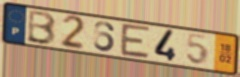2: (60, 14, 87, 51)
4: (152, 27, 180, 63)
5: (185, 32, 211, 67)
6: (93, 21, 116, 53)
B: (25, 9, 57, 47)
E: (120, 22, 152, 61)
